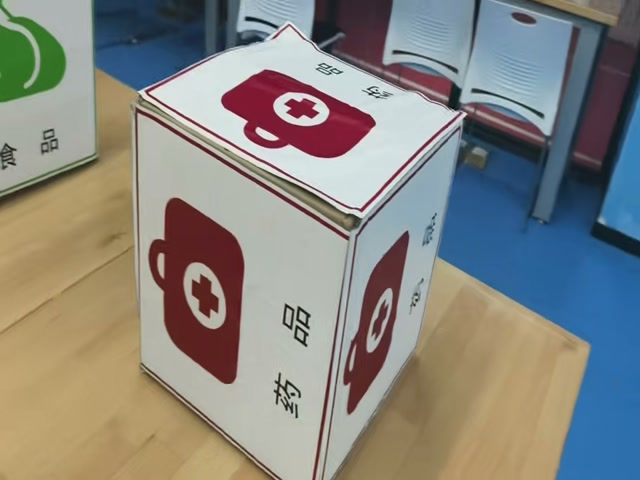Cube_medicine: (127, 26, 462, 221)
